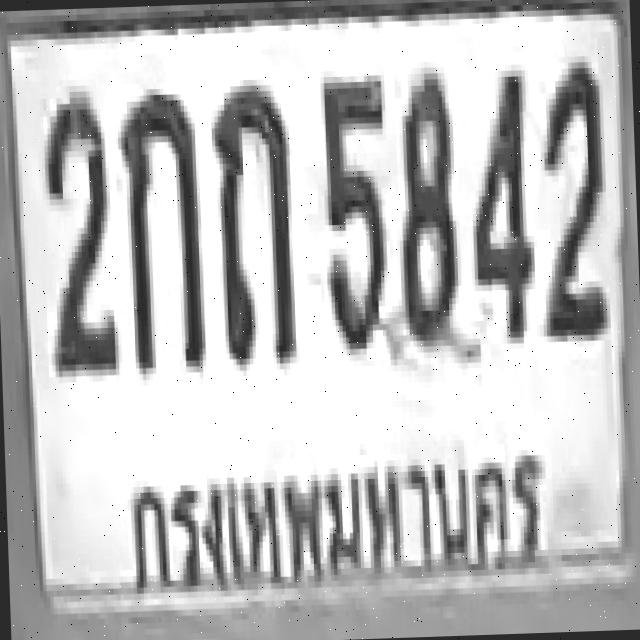10GorGai: (116, 87, 202, 368)
2: (41, 85, 114, 372), (534, 58, 607, 339)
31ThorThung: (208, 78, 294, 360)
4: (464, 64, 534, 338)
5: (317, 72, 390, 353)
8: (393, 64, 460, 344)
Bangkok: (109, 426, 556, 600)
